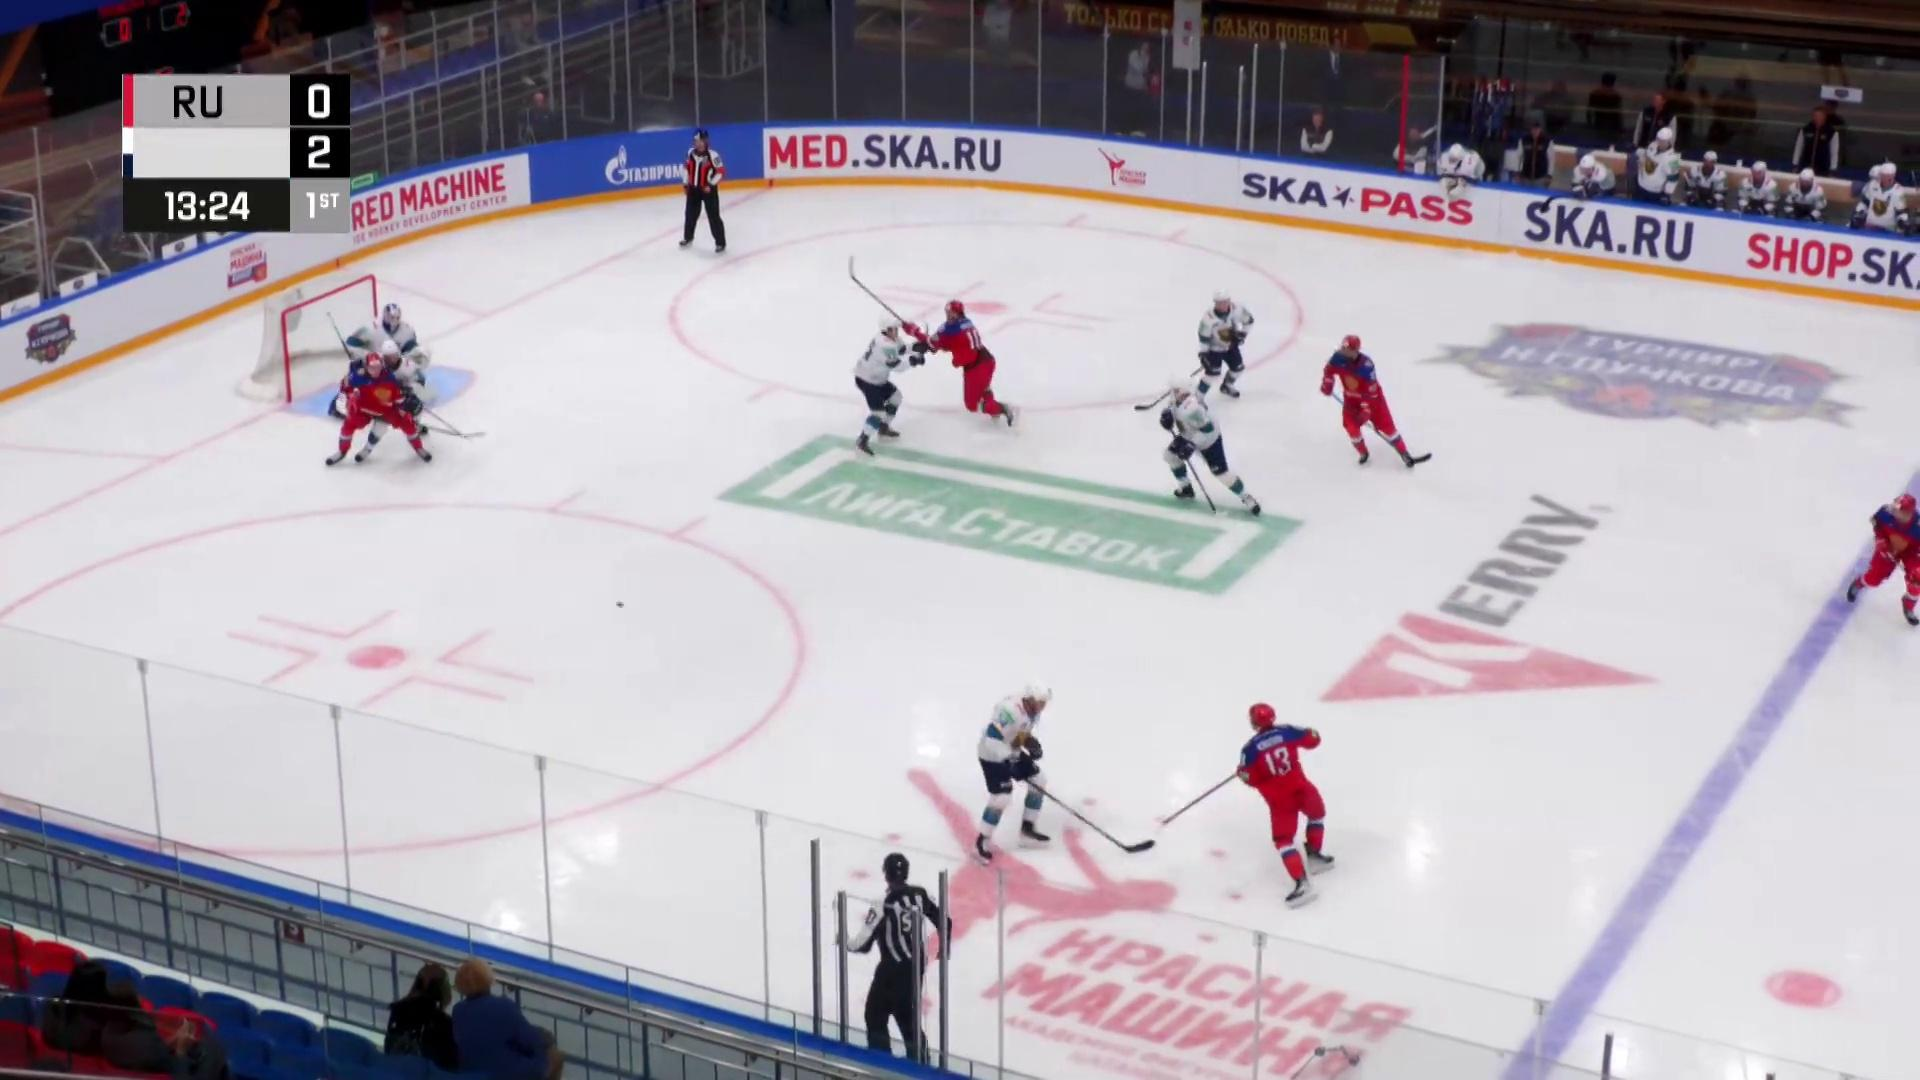ball: (615, 600, 624, 608)
